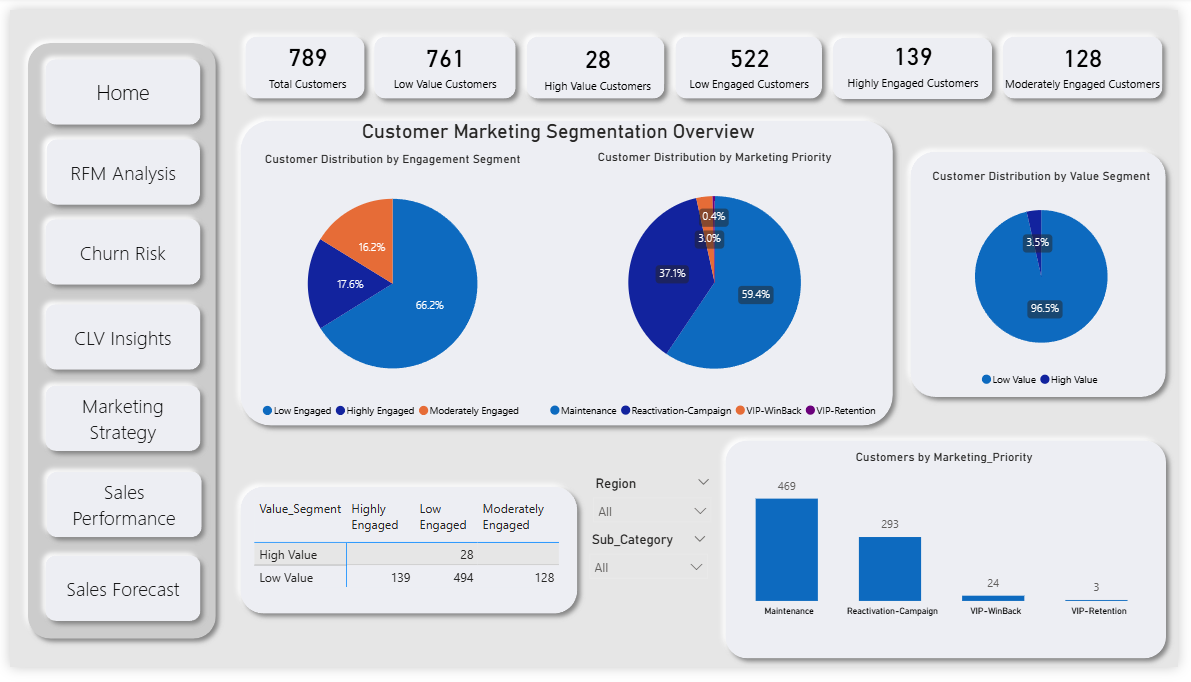

Layout of this report page (visuals, bound fields, positions):
{"tool":"powerbi","page":{"name":"Marketing Strategy","canvas":[1280,720],"ordinal":4},"visuals":[{"type":"group","id":"g1","title":"Group 1","box":[1077.9,19.5,195,89],"z":0,"group":"g11"},{"type":"group","id":"g2","title":"Group 1","box":[242.2,110.9,740.2,352],"z":0,"group":"g18"},{"type":"group","id":"g3","title":"Group 1","box":[976.4,144.6,301.9,289.4],"z":0},{"type":"group","id":"g4","title":"Group 1","box":[242.1,512,389.6,158.6],"z":0,"group":"g19"},{"type":"group","id":"g5","title":"Group 1","box":[718.9,19.5,180.9,89],"z":1000,"group":"g13"},{"type":"group","id":"g6","title":"Group 1","box":[773.6,461.9,506.4,258.8],"z":1000},{"type":"group","id":"g7","title":"Group 1","box":[556.3,19.5,171.1,89],"z":2000,"group":"g14"},{"type":"card","fields":{"Values":["CountNonNull(vw_Customer_Marketing_Matrix.Engagement_Segment)"]},"box":[900.1,19.5,179.5,76.5],"z":2000,"group":"g27"},{"type":"clusteredColumnChart","title":"Customers by Marketing_Priority","fields":{"Category":["vw_Customer_Marketing_Matrix.Marketing_Priority"],"Y":["CountNonNull(vw_Customer_Marketing_Matrix.Customer_ID)"]},"box":[766.6,482.8,513.4,190.6],"z":2000},{"type":"pivotTable","fields":{"Rows":["vw_Customer_Marketing_Matrix.Value_Segment"],"Columns":["vw_Customer_Marketing_Matrix.Engagement_Segment"],"Values":["CountNonNull(vw_Customer_Marketing_Matrix.Customer_ID)"]},"box":[263,528.7,368.7,141.9],"z":2000,"group":"g19"},{"type":"group","id":"g8","title":"Group 1","box":[389.5,19.5,175.3,89],"z":3000,"group":"g16"},{"type":"card","fields":{"Values":["CountNonNull(vw_Customer_Marketing_Matrix.Engagement_Segment)"]},"box":[720.6,24,179.5,72.3],"z":3000,"group":"g25"},{"type":"pieChart","title":"Customer Distribution by Value Segment","fields":{"Category":["vw_Customer_Marketing_Matrix.Value_Segment"],"Y":["CountNonNull(vw_Customer_Marketing_Matrix.Customer_ID)"]},"box":[982,173.8,296.3,254.6],"z":3000},{"type":"group","id":"g9","title":"Group 4","box":[247.7,19.5,150.3,89],"z":4000},{"type":"group","id":"g10","title":"Group 1","box":[891.6,20.3,194.8,88.2],"z":4000,"group":"g12"},{"type":"card","fields":{"Values":["CountNonNull(vw_Customer_Marketing_Matrix.Value_Segment)"]},"box":[572.6,25.1,143.3,72.3],"z":5000,"group":"g21"},{"type":"slicer","fields":{"Values":["Superstore 2025.Region"]},"box":[628.9,505,150.3,62.6],"z":5000},{"type":"card","fields":{"Values":["CountNonNull(vw_Customer_Marketing_Matrix.Value_Segment)"]},"box":[405.4,23.7,143.3,72.3],"z":6000,"group":"g23"},{"type":"slicer","fields":{"Values":["Superstore 2025.Sub_Category"]},"box":[624.7,567.7,150.3,62.6],"z":6000},{"type":"group","id":"g11","title":"Group 8","box":[1077.9,19.5,194.8,89],"z":7000},{"type":"pieChart","title":"Customer Distribution by Marketing Priority","fields":{"Y":["CountNonNull(vw_Customer_Marketing_Matrix.Customer_ID)"],"Category":["vw_Customer_Marketing_Matrix.Marketing_Priority"]},"box":[563.6,154,416,308.9],"z":7000,"group":"g18"},{"type":"group","id":"g12","title":"Group 9","box":[891.6,19.5,194.8,89],"z":8000},{"type":"group","id":"g13","title":"Group 11","box":[718.9,19.5,181.2,89],"z":9000},{"type":"card","fields":{"Values":["CountNonNull(vw_Customer_Marketing_Matrix.Engagement_Segment)"]},"box":[1081.7,23.7,186.4,72.3],"z":9000,"group":"g17"},{"type":"group","id":"g14","title":"Group 12","box":[556.3,19.5,171.1,89],"z":10000},{"type":"textbox","box":[379.9,114.8,489.7,58.4],"z":10000,"group":"g18"},{"type":"group","id":"g15","title":"Group 1","box":[247.7,19.5,150.3,89],"z":11000,"group":"g9"},{"type":"group","id":"g16","title":"Group 13","box":[389.5,19.5,175.3,89],"z":11000},{"type":"group","id":"g17","title":"Group 5","box":[1081.7,23.7,186.4,72.3],"z":11000,"group":"g11"},{"type":"group","id":"g18","title":"Group 14","box":[220.2,110.9,762.2,352],"z":12000},{"type":"group","id":"g19","title":"Group 15","box":[242.1,512,389.6,158.6],"z":13000},{"type":"card","fields":{"Values":["tbl_Measure.Customer Count"]},"box":[254.7,23.7,143.3,71],"z":14000,"group":"g9"},{"type":"group","id":"g20","title":"Group 10","box":[10.1,26.4,226,674],"z":14000},{"type":"group","id":"g21","title":"Group 2","box":[572.6,25.1,143.3,72.3],"z":16000,"group":"g14"},{"type":"group","id":"g22","title":"Group 1","box":[10.1,26.4,226,674],"z":16000,"group":"g20"},{"type":"pieChart","title":"Customer Distribution by Engagement Segment","fields":{"Category":["vw_Customer_Marketing_Matrix.Engagement_Segment"],"Y":["CountNonNull(vw_Customer_Marketing_Matrix.Customer_ID)"]},"box":[220.2,155.4,397.9,306.1],"z":16500,"group":"g18"},{"type":"group","id":"g23","title":"Group 3","box":[405.4,23.7,143.3,72.3],"z":17000,"group":"g16"},{"type":"group","id":"g24","title":"Group 1","box":[30.2,496.8,190,92],"z":17000,"group":"g20"},{"type":"group","id":"g25","title":"Group 6","box":[720.6,24,179.5,72.3],"z":18000,"group":"g13"},{"type":"group","id":"g26","title":"Group 1","box":[29,587.4,190,92],"z":18000,"group":"g20"},{"type":"group","id":"g27","title":"Group 7","box":[900.1,19.5,179.5,76.5],"z":19000,"group":"g12"},{"type":"group","id":"g28","title":"Group 1","box":[29,401.9,190,92],"z":19000,"group":"g20"},{"type":"shape","box":[247.7,19.5,150.6,87.9],"z":19500,"group":"g15"},{"type":"shape","box":[389.5,19.5,175.1,87.9],"z":19500,"group":"g8"},{"type":"shape","box":[556.3,19.5,171,87.9],"z":19500,"group":"g7"},{"type":"shape","box":[718.9,19.5,180.7,87.9],"z":19500,"group":"g5"},{"type":"shape","box":[1077.9,19.5,194.8,87.9],"z":19500,"group":"g1"},{"type":"shape","box":[891.6,20.3,194.6,87.1],"z":19500,"group":"g10"},{"type":"shape","box":[10.1,26.4,226,673],"z":19500,"group":"g22"},{"type":"shape","box":[29,44.5,190,91.9],"z":19500,"group":"g32"},{"type":"shape","box":[242.2,110.9,735.1,354.5],"z":19500,"group":"g2"},{"type":"shape","box":[29,132,188.1,91.9],"z":19500,"group":"g31"},{"type":"shape","box":[976.4,144.6,299.8,288.9],"z":19500,"group":"g3"},{"type":"shape","box":[29,219.6,190,91.9],"z":19500,"group":"g30"},{"type":"shape","box":[29,313.2,190,91.9],"z":19500,"group":"g29"},{"type":"shape","box":[29,401.9,190,91.9],"z":19500,"group":"g28"},{"type":"shape","box":[773.6,461.9,502.9,259],"z":19500,"group":"g6"},{"type":"shape","box":[30.2,496.8,190,91.9],"z":19500,"group":"g24"},{"type":"shape","box":[242.1,512,389.2,159.1],"z":19500,"group":"g4"},{"type":"shape","box":[29,587.4,190,91.9],"z":19500,"group":"g26"},{"type":"shape","box":[247.7,19.5,150.6,87.9],"z":20000,"group":"g15"},{"type":"shape","box":[389.5,19.5,175.1,87.9],"z":20000,"group":"g8"},{"type":"shape","box":[556.3,19.5,171,87.9],"z":20000,"group":"g7"},{"type":"shape","box":[718.9,19.5,180.7,87.9],"z":20000,"group":"g5"},{"type":"shape","box":[1077.9,19.5,194.8,87.9],"z":20000,"group":"g1"},{"type":"shape","box":[891.6,20.3,194.6,87.1],"z":20000,"group":"g10"},{"type":"shape","box":[10.1,26.4,226,673],"z":20000,"group":"g22"},{"type":"shape","box":[29,44.5,190,91.9],"z":20000,"group":"g32"},{"type":"shape","box":[242.2,110.9,735.1,354.5],"z":20000,"group":"g2"},{"type":"shape","box":[30.9,132,188.1,92],"z":20000,"group":"g31"},{"type":"shape","box":[976.4,144.6,299.8,288.9],"z":20000,"group":"g3"},{"type":"shape","box":[29,219.6,190,91.9],"z":20000,"group":"g30"},{"type":"group","id":"g29","title":"Group 1","box":[29,313.2,190,92],"z":20000,"group":"g20"},{"type":"shape","box":[29,313.2,190,91.9],"z":20000,"group":"g29"},{"type":"shape","box":[29,401.9,190,91.9],"z":20000,"group":"g28"},{"type":"shape","box":[773.6,461.9,502.9,259],"z":20000,"group":"g6"},{"type":"shape","box":[30.2,496.8,190,91.9],"z":20000,"group":"g24"},{"type":"shape","box":[242.1,512,389.2,159.1],"z":20000,"group":"g4"},{"type":"shape","box":[29,587.4,190,91.9],"z":20000,"group":"g26"},{"type":"group","id":"g30","title":"Group 1","box":[29,219.6,190,92],"z":21000,"group":"g20"},{"type":"group","id":"g31","title":"Group 1","box":[29,132,190,92],"z":22000,"group":"g20"},{"type":"group","id":"g32","title":"Group 1","box":[29,44.5,190,92],"z":23000,"group":"g20"}]}

Visuals, with their boxes in screenshot pixels (x1, y1, x2, y2), scaled from the page's 1280x720 canvas onto the 1191x682 screenshot:
"Group 1" group: BBox(1003, 18, 1184, 103)
"Group 1" group: BBox(225, 105, 914, 438)
"Group 1" group: BBox(909, 137, 1189, 411)
"Group 1" group: BBox(225, 485, 588, 635)
"Group 1" group: BBox(669, 18, 837, 103)
"Group 1" group: BBox(720, 438, 1190, 681)
"Group 1" group: BBox(518, 18, 677, 103)
card - CountNonNull(vw_Customer_Marketing_Matrix.Engagement_Segment): BBox(838, 18, 1005, 91)
"Customers by Marketing_Priority" clusteredColumnChart: BBox(713, 457, 1190, 638)
pivotTable - vw_Customer_Marketing_Matrix.Value_Segment x vw_Customer_Marketing_Matrix.Engagement_Segment: BBox(245, 501, 588, 635)
"Group 1" group: BBox(362, 18, 526, 103)
card - CountNonNull(vw_Customer_Marketing_Matrix.Engagement_Segment): BBox(670, 23, 838, 91)
"Customer Distribution by Value Segment" pieChart: BBox(914, 165, 1189, 406)
"Group 4" group: BBox(230, 18, 370, 103)
"Group 1" group: BBox(830, 19, 1011, 103)
card - CountNonNull(vw_Customer_Marketing_Matrix.Value_Segment): BBox(533, 24, 666, 92)
slicer - Superstore 2025.Region: BBox(585, 478, 725, 538)
card - CountNonNull(vw_Customer_Marketing_Matrix.Value_Segment): BBox(377, 22, 511, 91)
slicer - Superstore 2025.Sub_Category: BBox(581, 538, 721, 597)
"Group 8" group: BBox(1003, 18, 1184, 103)
"Customer Distribution by Marketing Priority" pieChart: BBox(524, 146, 911, 438)
"Group 9" group: BBox(830, 18, 1011, 103)
"Group 11" group: BBox(669, 18, 838, 103)
card - CountNonNull(vw_Customer_Marketing_Matrix.Engagement_Segment): BBox(1006, 22, 1180, 91)
"Group 12" group: BBox(518, 18, 677, 103)
textbox: BBox(353, 109, 809, 164)
"Group 1" group: BBox(230, 18, 370, 103)
"Group 13" group: BBox(362, 18, 526, 103)
"Group 5" group: BBox(1006, 22, 1180, 91)
"Group 14" group: BBox(205, 105, 914, 438)
"Group 15" group: BBox(225, 485, 588, 635)
card - tbl_Measure.Customer Count: BBox(237, 22, 370, 90)
"Group 10" group: BBox(9, 25, 220, 663)
"Group 2" group: BBox(533, 24, 666, 92)
"Group 1" group: BBox(9, 25, 220, 663)
"Customer Distribution by Engagement Segment" pieChart: BBox(205, 147, 575, 437)
"Group 3" group: BBox(377, 22, 511, 91)
"Group 1" group: BBox(28, 471, 205, 558)
"Group 6" group: BBox(670, 23, 838, 91)
"Group 1" group: BBox(27, 556, 204, 644)
"Group 7" group: BBox(838, 18, 1005, 91)
"Group 1" group: BBox(27, 381, 204, 468)
shape: BBox(230, 18, 371, 102)
shape: BBox(362, 18, 525, 102)
shape: BBox(518, 18, 677, 102)
shape: BBox(669, 18, 837, 102)
shape: BBox(1003, 18, 1184, 102)
shape: BBox(830, 19, 1011, 102)
shape: BBox(9, 25, 220, 662)
shape: BBox(27, 42, 204, 129)
shape: BBox(225, 105, 909, 441)
shape: BBox(27, 125, 202, 212)
shape: BBox(909, 137, 1187, 411)
shape: BBox(27, 208, 204, 295)
shape: BBox(27, 297, 204, 384)
shape: BBox(27, 381, 204, 468)
shape: BBox(720, 438, 1188, 681)
shape: BBox(28, 471, 205, 558)
shape: BBox(225, 485, 587, 636)
shape: BBox(27, 556, 204, 643)
shape: BBox(230, 18, 371, 102)
shape: BBox(362, 18, 525, 102)
shape: BBox(518, 18, 677, 102)
shape: BBox(669, 18, 837, 102)
shape: BBox(1003, 18, 1184, 102)
shape: BBox(830, 19, 1011, 102)
shape: BBox(9, 25, 220, 662)
shape: BBox(27, 42, 204, 129)
shape: BBox(225, 105, 909, 441)
shape: BBox(29, 125, 204, 212)
shape: BBox(909, 137, 1187, 411)
shape: BBox(27, 208, 204, 295)
"Group 1" group: BBox(27, 297, 204, 384)
shape: BBox(27, 297, 204, 384)
shape: BBox(27, 381, 204, 468)
shape: BBox(720, 438, 1188, 681)
shape: BBox(28, 471, 205, 558)
shape: BBox(225, 485, 587, 636)
shape: BBox(27, 556, 204, 643)
"Group 1" group: BBox(27, 208, 204, 295)
"Group 1" group: BBox(27, 125, 204, 212)
"Group 1" group: BBox(27, 42, 204, 129)
